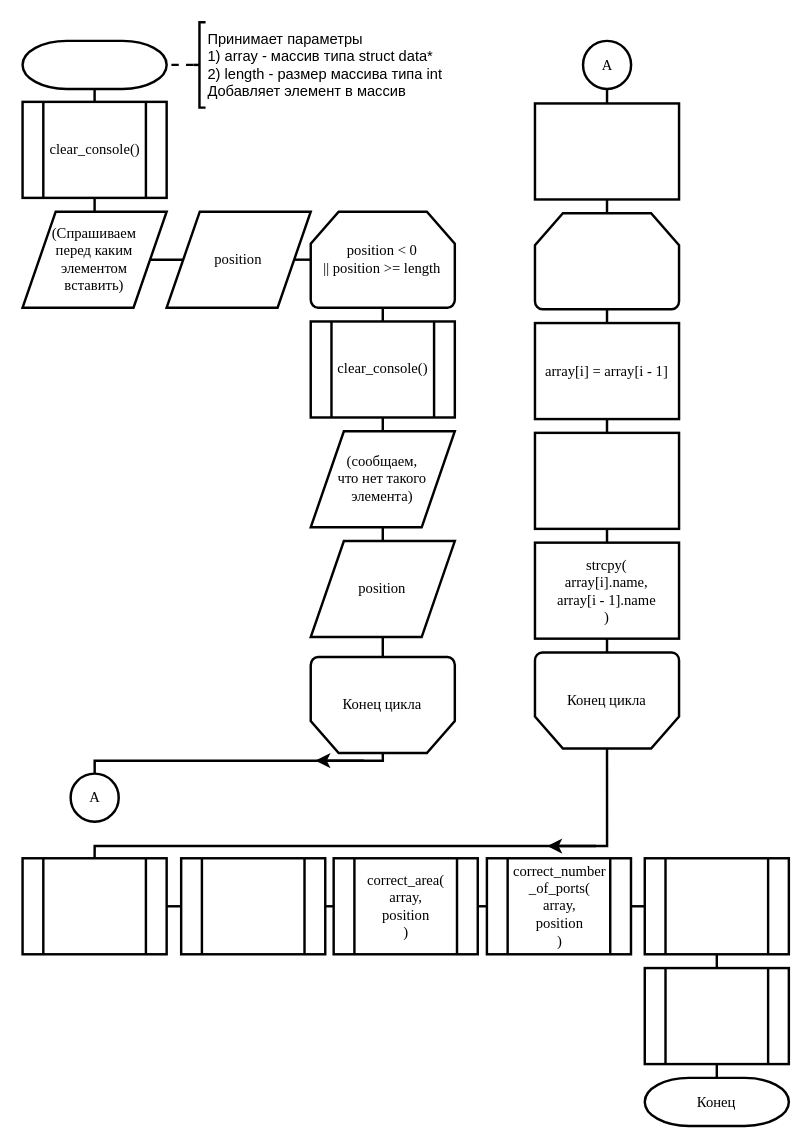
Some shapes in this 811 by 1148 pixel diagram are drawn without their labels. The box of each missing label's shape, as (x1, y1, x2, y2) in pixels:
array = (struct data*) realloc( array, (length+1) *sizeof(struct data) ): (533, 102, 680, 200)
array[i].name = (char*) calloc( array[i].name_size, sizeof(char) ): (533, 431, 680, 529)
correct_length( array, position ): (179, 856, 326, 955)
correct_name( array, position ): (21, 856, 167, 955)
correct_type( array, position ): (643, 856, 789, 955)
i = length i > position: (533, 211, 680, 310)
menu( array, length + 1 ): (643, 966, 789, 1065)
void add_element _before(): (21, 39, 167, 90)
